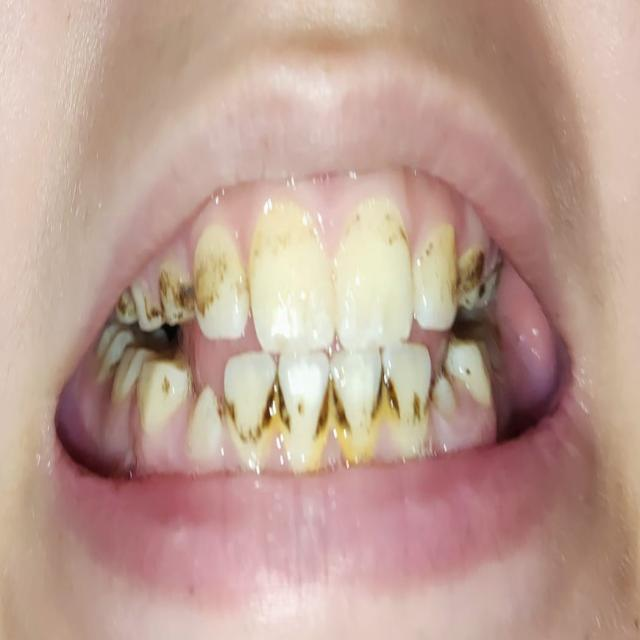tooth: (252, 210, 330, 348), (341, 219, 410, 339), (385, 340, 429, 450), (278, 357, 327, 453), (226, 364, 275, 459), (335, 351, 381, 450), (200, 241, 250, 328), (414, 227, 455, 324), (136, 364, 180, 439), (453, 340, 487, 420), (192, 388, 221, 462), (158, 274, 192, 327), (435, 366, 459, 441), (114, 349, 137, 406), (464, 245, 481, 309), (132, 286, 159, 325)
